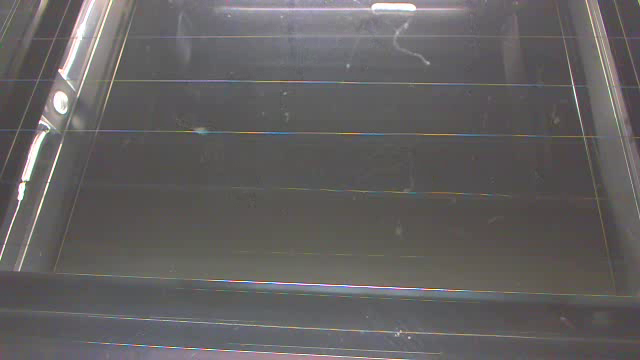alpha: (369, 2, 418, 12)
